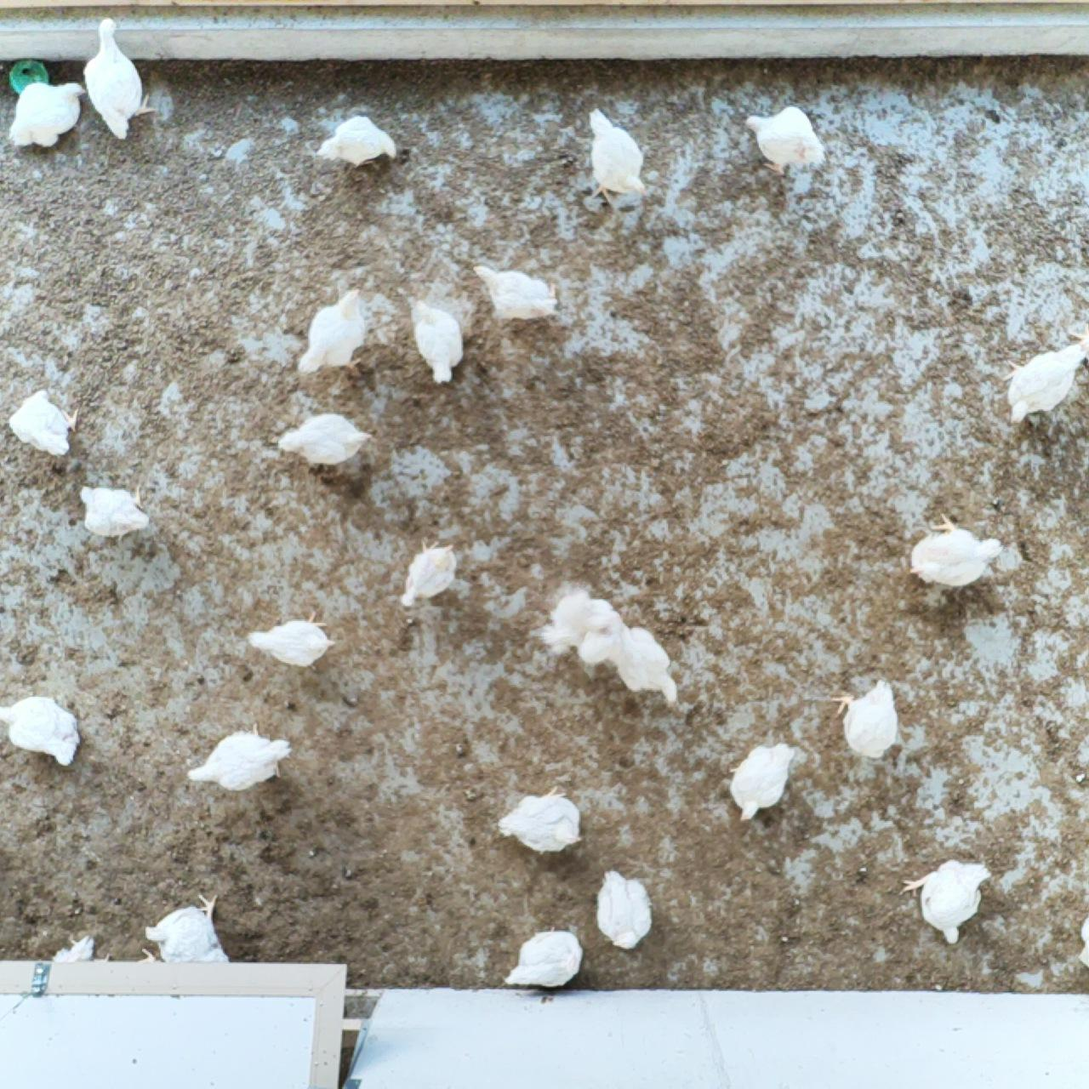chicken: (81, 15, 158, 142), (895, 854, 994, 946), (289, 285, 378, 381), (184, 718, 294, 795), (578, 102, 654, 213), (908, 507, 1006, 593), (999, 336, 1089, 427), (492, 785, 588, 860), (741, 98, 828, 180), (140, 891, 231, 963), (724, 740, 801, 824), (0, 694, 85, 770), (244, 606, 341, 671), (3, 76, 86, 151), (272, 411, 377, 470), (829, 676, 903, 759), (502, 922, 587, 994), (6, 384, 83, 462), (592, 865, 658, 954), (611, 628, 683, 708), (472, 263, 563, 326), (540, 585, 621, 651), (399, 536, 463, 615), (411, 298, 469, 385), (316, 113, 402, 169), (77, 479, 153, 542), (49, 931, 113, 965)
